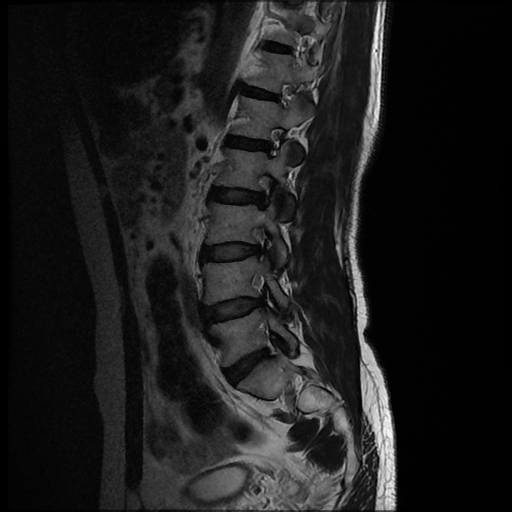LFS0: (255, 116, 296, 167)
LFS1: (244, 160, 284, 218)
